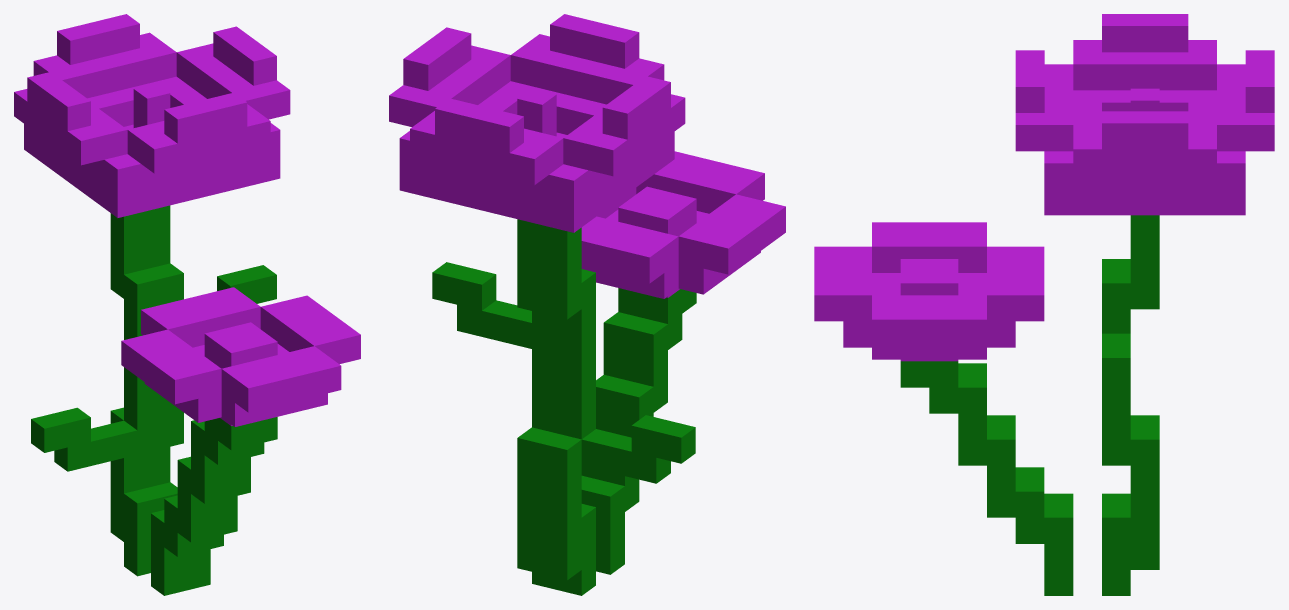
File: violet wide flower.fbx
The picture shows the model from 3 angles, left to right: view 1: azimuth 30°, elevation 25°; view 2: azimuth 150°, elevation 25°; view 3: azimuth 270°, elevation 25°; orthographic projection. The views are drawn at different scales.
Visible parts, largest first — view 1: Untitled; view 2: Untitled; view 3: Untitled.
Boxes of the visible parts, box(x1,y1,x2,y2) form: Untitled: box(14, 14, 360, 595); Untitled: box(389, 14, 785, 595); Untitled: box(814, 14, 1274, 595).
Bounding box in the file's own units: 100 × 200 × 160.
